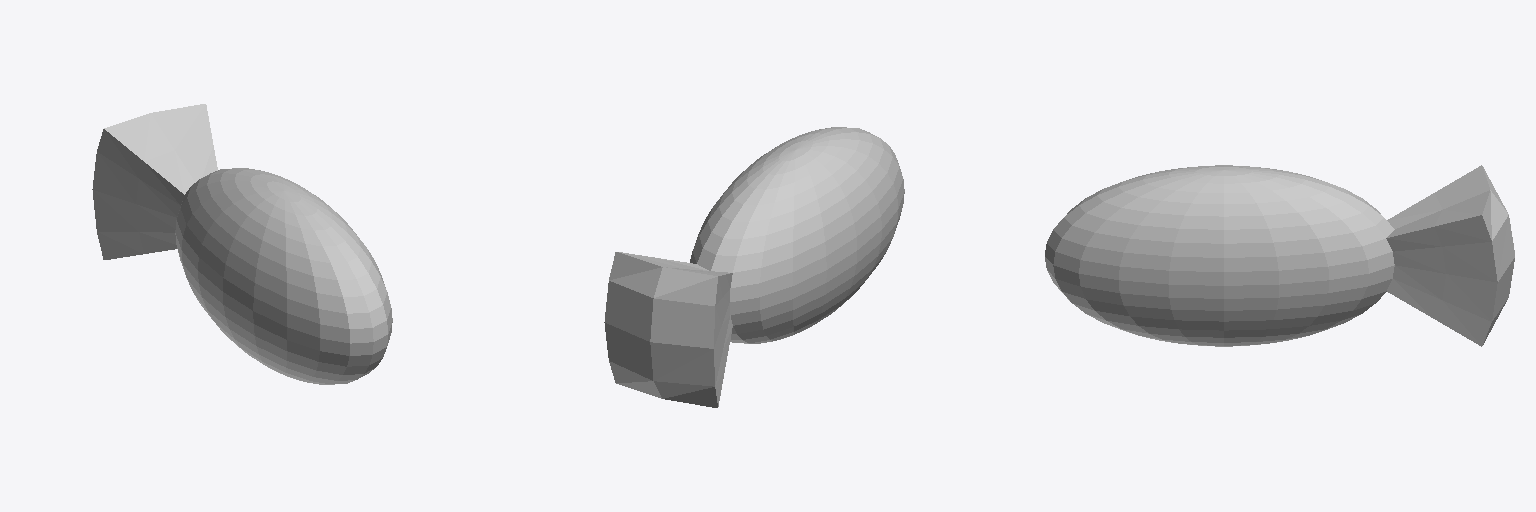
File: fish.obj
The picture shows the model from 3 angles: view 1: azimuth 30°, elevation 25°; view 2: azimuth 150°, elevation 25°; view 3: azimuth 270°, elevation 25°; orthographic projection.
Parts seen in each view (by area): view 1: pSphere1; view 2: pSphere1; view 3: pSphere1.
Part boxes in pixels (left/top/right/bottom): pSphere1: left=92, top=104, right=392, bottom=384; pSphere1: left=604, top=127, right=904, bottom=407; pSphere1: left=1045, top=165, right=1514, bottom=346.
Size of the model in its own units: 0.8563 by 1.14 by 2.84.